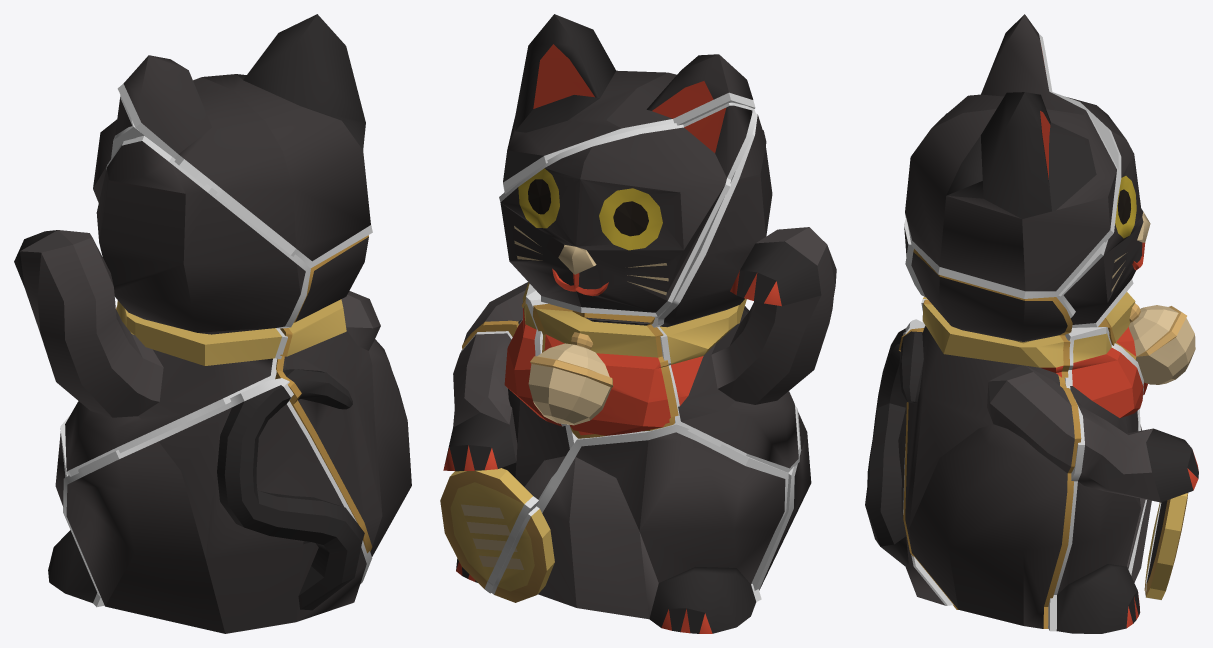
Rendered from v8_cat.fbx.
3 renders of one model, left to right at view 1: azimuth 30°, elevation 25°; view 2: azimuth 150°, elevation 25°; view 3: azimuth 270°, elevation 25°, orthographic. The views are drawn at different scales.
Parts seen in each view (by area): view 1: shard4, shard5, shard1, shard6, gold4, gold5, gold1, shard8, gold6, shard2; view 2: shard8, shard4, shard2, shard3, shard1, shard7, gold8, gold2, gold4, gold1, gold7, gold3 (+4 smaller); view 3: shard6, shard1, shard3, shard5, shard2, shard7, gold6, gold1, gold3, gold2, shard8, gold5 (+1 smaller).
Part boxes in pixels (x1=…): shard4: x1=14, y1=141, x2=305, y2=471; shard5: x1=66, y1=385, x2=366, y2=633; shard1: x1=123, y1=14, x2=370, y2=261; shard6: x1=283, y1=237, x2=411, y2=556; gold4: x1=66, y1=136, x2=310, y2=476; gold5: x1=63, y1=378, x2=372, y2=605; gold1: x1=117, y1=83, x2=372, y2=268; shard8: x1=48, y1=433, x2=97, y2=603; gold6: x1=275, y1=235, x2=372, y2=553; shard2: x1=93, y1=97, x2=132, y2=202; shard8: x1=494, y1=432, x2=785, y2=633; shard4: x1=659, y1=114, x2=836, y2=468; shard2: x1=500, y1=105, x2=752, y2=312; shard3: x1=440, y1=304, x2=569, y2=588; shard1: x1=503, y1=14, x2=753, y2=182; shard7: x1=528, y1=308, x2=670, y2=435; gold8: x1=491, y1=423, x2=788, y2=601; gold2: x1=499, y1=102, x2=756, y2=316; gold4: x1=651, y1=113, x2=799, y2=472; gold1: x1=503, y1=92, x2=755, y2=193; gold7: x1=533, y1=303, x2=678, y2=438; gold3: x1=460, y1=284, x2=577, y2=593; shard6: x1=899, y1=252, x2=1074, y2=628; shard1: x1=905, y1=14, x2=1116, y2=291; shard3: x1=1056, y1=333, x2=1198, y2=633; shard5: x1=865, y1=328, x2=945, y2=605; shard2: x1=1063, y1=97, x2=1150, y2=324; shard7: x1=1105, y1=292, x2=1195, y2=394; gold6: x1=899, y1=249, x2=1081, y2=628; gold1: x1=905, y1=34, x2=1120, y2=298; gold3: x1=1048, y1=327, x2=1161, y2=631; gold2: x1=1051, y1=91, x2=1133, y2=327; shard8: x1=1131, y1=425, x2=1160, y2=594; gold5: x1=902, y1=319, x2=953, y2=605.
Size of the model in its own units: 9.25 by 13.2 by 7.71.
